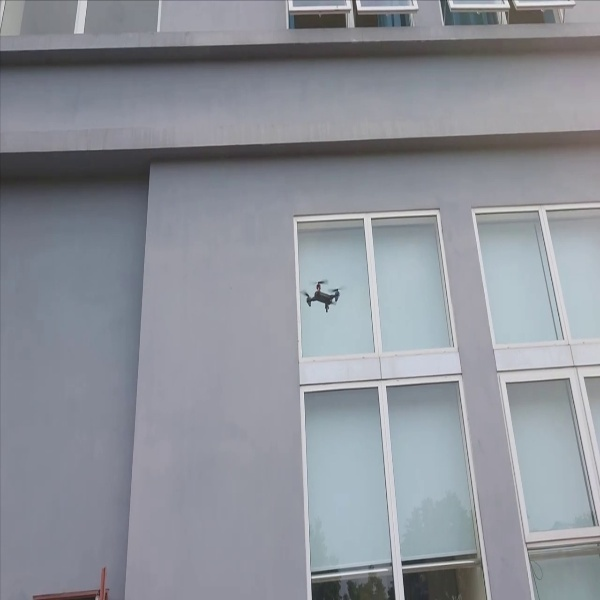drone: (301, 265, 344, 321)
